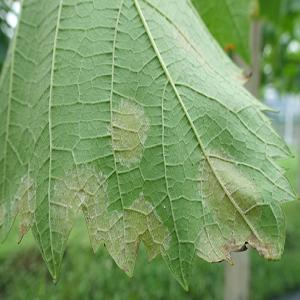Folha: (1, 0, 298, 292)
Fungo: (49, 161, 170, 270), (196, 139, 264, 232), (191, 226, 278, 268), (109, 96, 150, 170), (4, 174, 41, 240)
